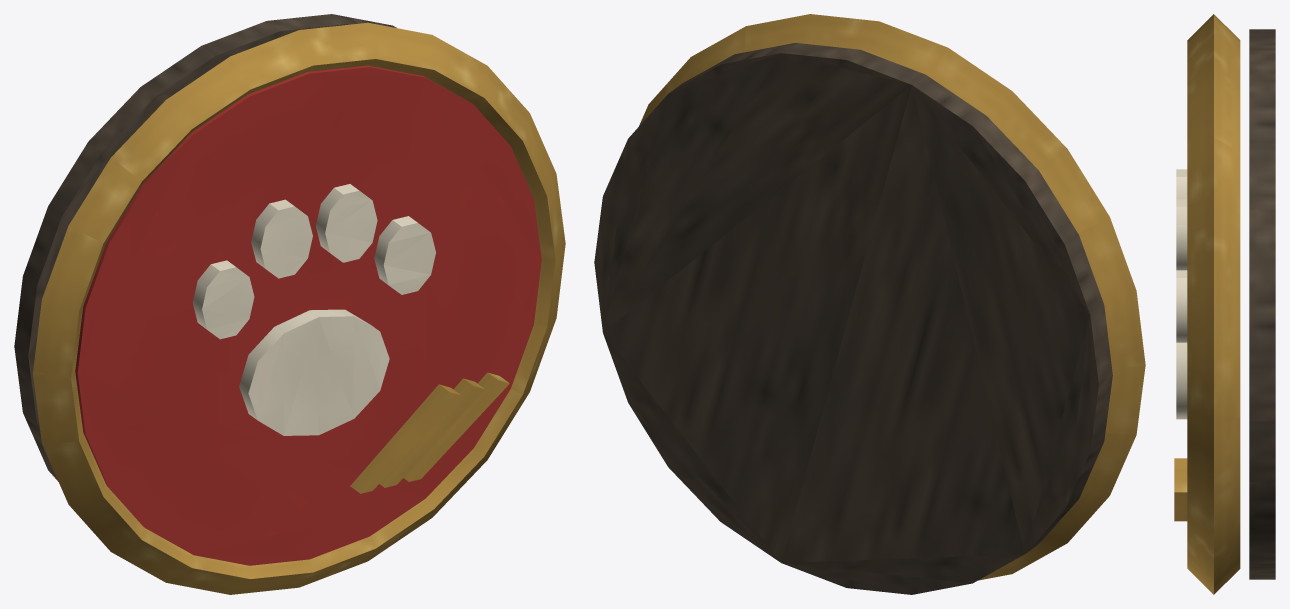
The model's file is SM_Emblem_Hunter.fbx.
The picture shows the model from 3 angles, left to right: view 1: azimuth 30°, elevation 25°; view 2: azimuth 150°, elevation 25°; view 3: azimuth 270°, elevation 25°; orthographic projection. The views are drawn at different scales.
Visible parts, largest first — view 1: SM_Emblem_Hunter; view 2: SM_Emblem_Hunter; view 3: SM_Emblem_Hunter.
Boxes of the visible parts, x1,y1,x2,y2 form: SM_Emblem_Hunter: (14,14,565,594); SM_Emblem_Hunter: (594,14,1145,594); SM_Emblem_Hunter: (1174,14,1275,594).
Bounding box in the file's own units: 2.64 × 2.64 × 0.46.
Materials: 1 (1 with a texture image).
